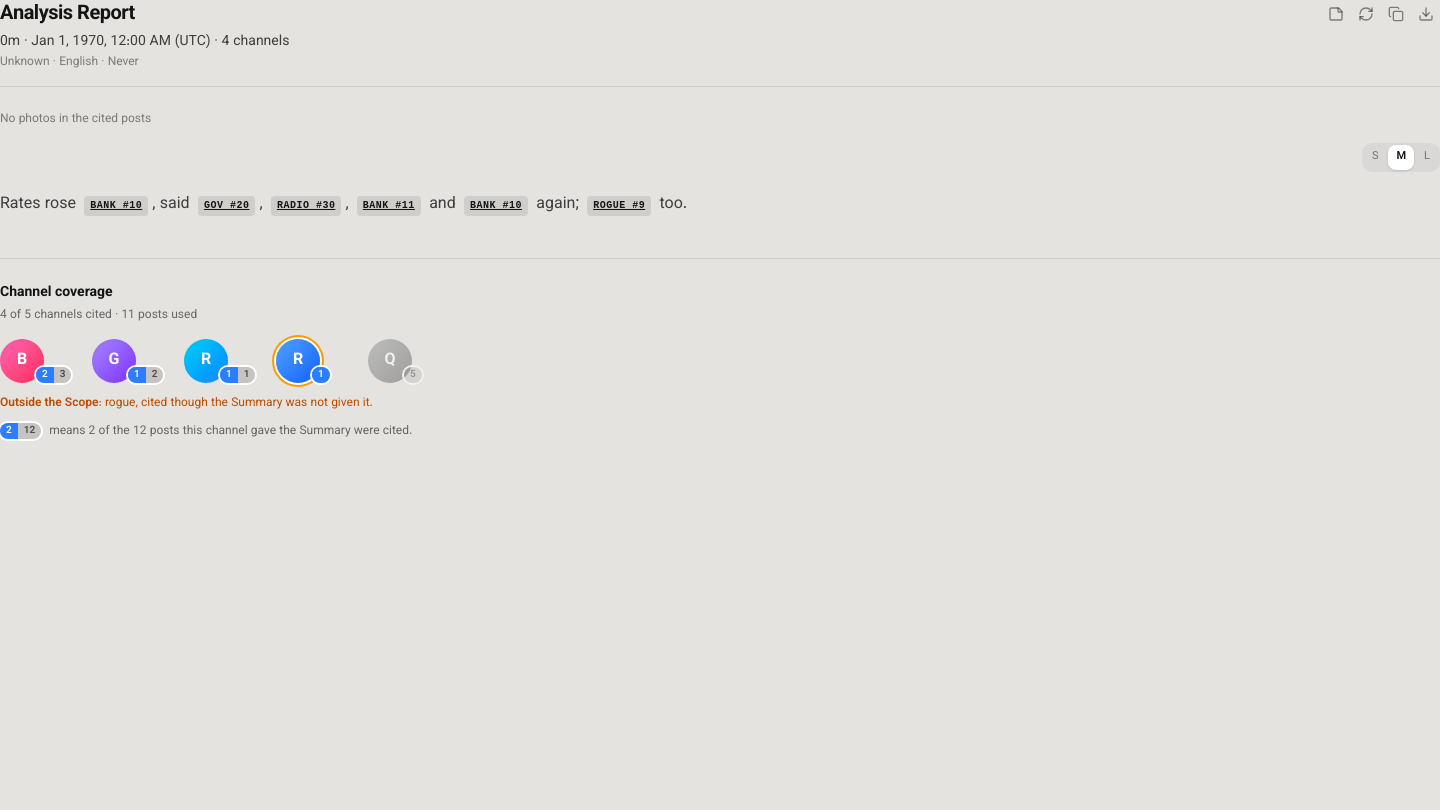
Test: the Channel posts sheet › Find closes the sheet and then finds the Citation
Click the button "B 2 3" at (22, 360), box [0,338,44,382]
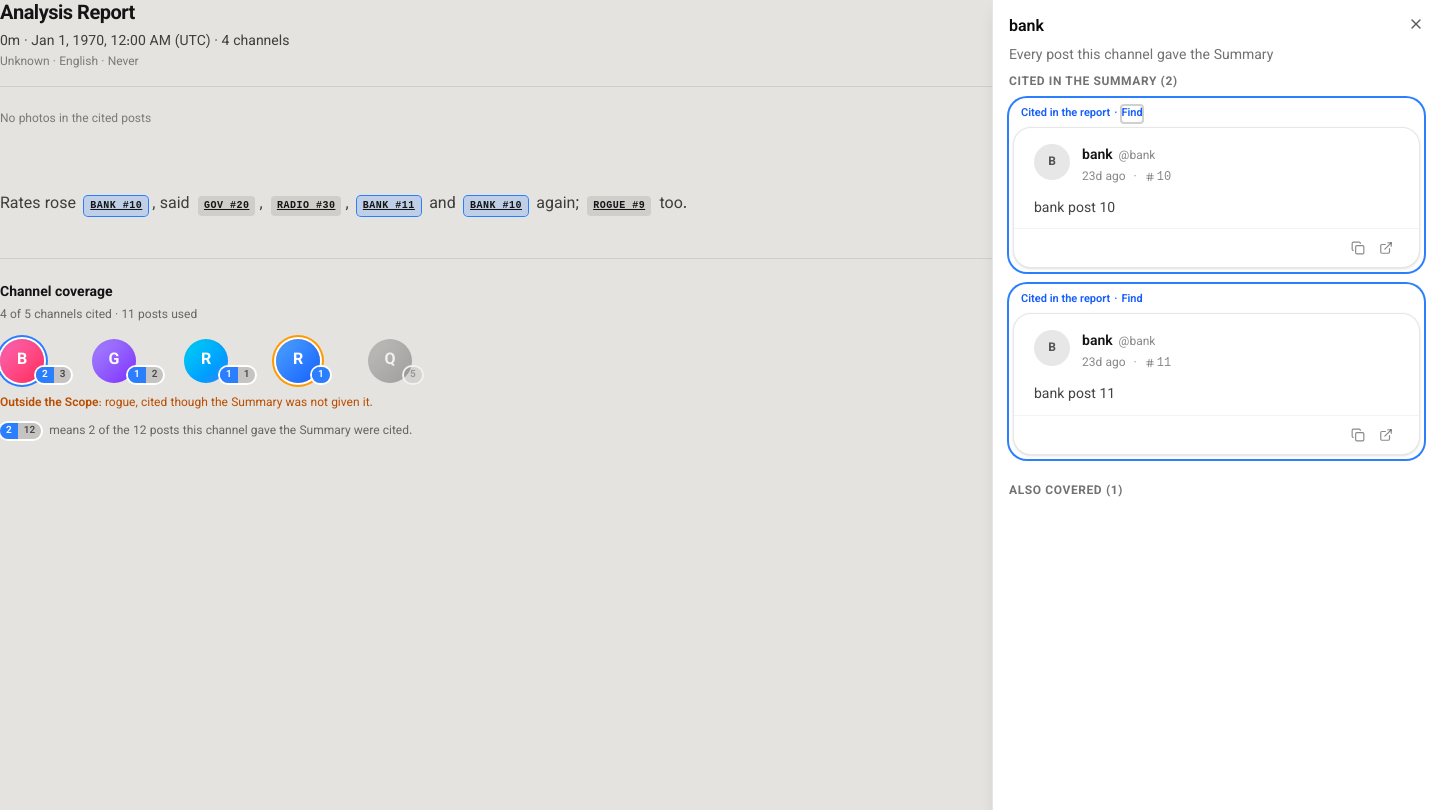
Click the button with aria-label "Find bank #11 in the report" at (1132, 301), box [1121,292,1143,309]
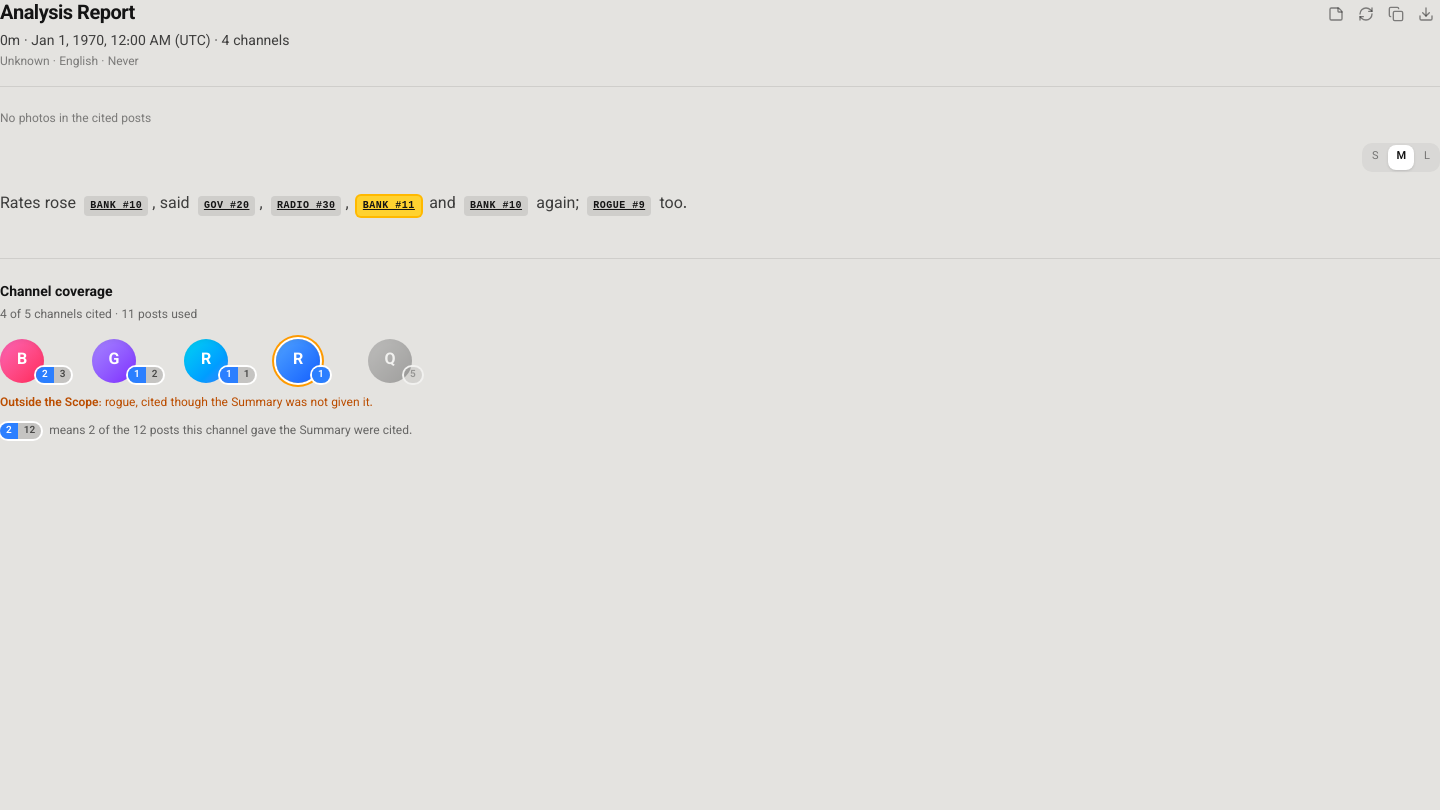
Now the dialog is gone
